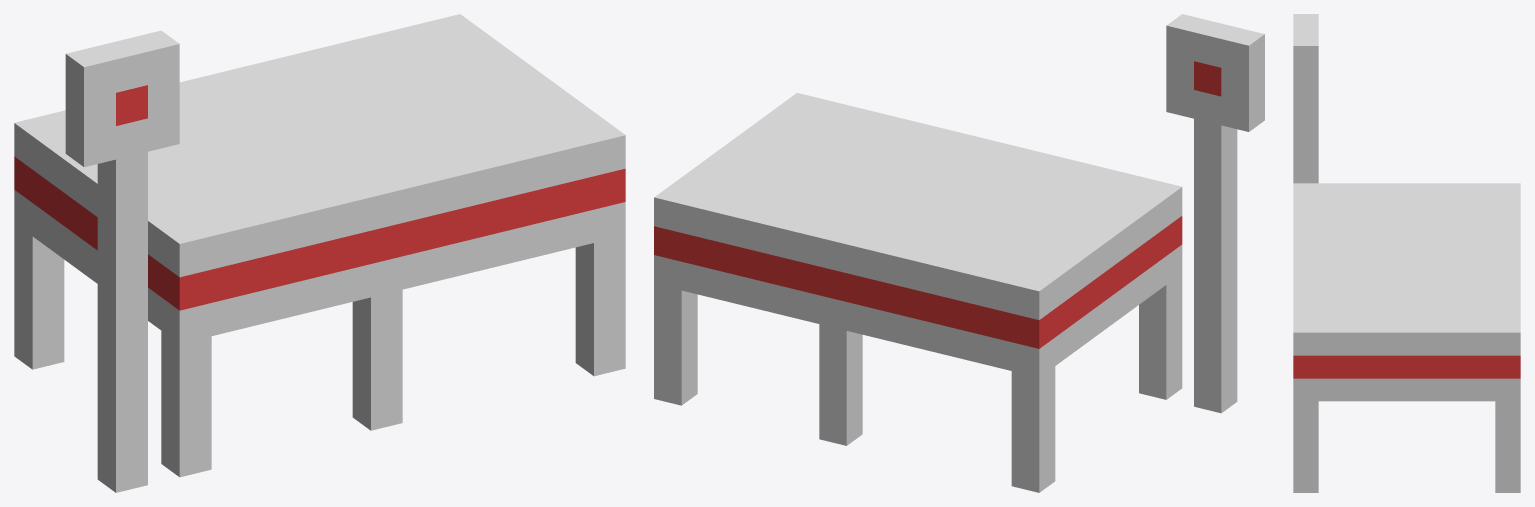
File: GasStation.fbx
3 renders of one model, left to right at view 1: azimuth 30°, elevation 25°; view 2: azimuth 150°, elevation 25°; view 3: azimuth 270°, elevation 25°, orthographic. The views are drawn at different scales.
Parts seen in each view (by area): view 1: GasStation; view 2: GasStation; view 3: GasStation.
Boxes of the visible parts, bbox=[...] form: GasStation: bbox=[14, 14, 625, 492]; GasStation: bbox=[654, 14, 1264, 492]; GasStation: bbox=[1293, 14, 1520, 492].
Size of the model in its own units: 0.136 by 0.104 by 0.072.
